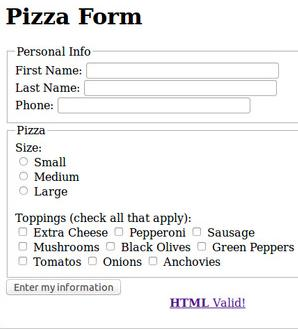button: (5, 278, 122, 295)
checkbox: (16, 240, 29, 253), (17, 254, 29, 268), (17, 225, 29, 238), (113, 225, 125, 238), (190, 226, 203, 238), (86, 255, 98, 268), (197, 240, 208, 254), (104, 241, 116, 253), (147, 256, 159, 268)
checkbox_with_label: (195, 239, 294, 255), (16, 224, 108, 239), (105, 238, 190, 254), (16, 239, 99, 255), (146, 254, 222, 269), (112, 224, 185, 239), (16, 253, 81, 269), (189, 225, 255, 240), (86, 254, 142, 269)
field: (55, 97, 253, 116), (84, 62, 278, 80), (82, 80, 279, 97)
field_with_label: (16, 61, 280, 81), (15, 96, 254, 117), (16, 79, 280, 98)
radio: (17, 184, 30, 198), (18, 169, 29, 183), (17, 156, 29, 168)
radio_with_label: (16, 169, 79, 185), (15, 183, 68, 200), (16, 154, 68, 169)
